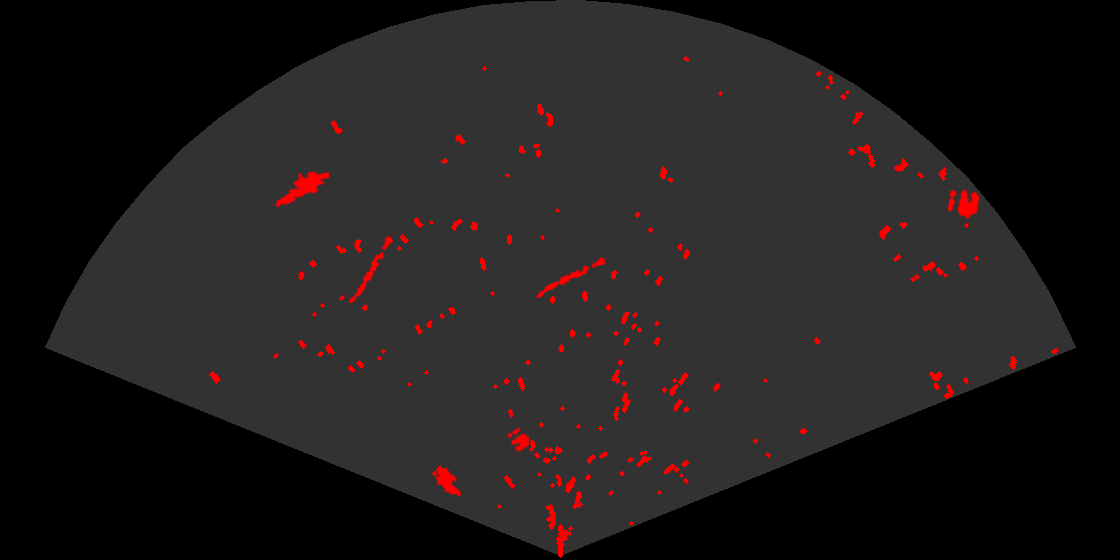AUV: (434, 464, 463, 498)
ball: (946, 187, 981, 220), (506, 426, 532, 453)
chain: (347, 231, 397, 305), (535, 255, 609, 300)
frogman: (273, 169, 329, 208)
